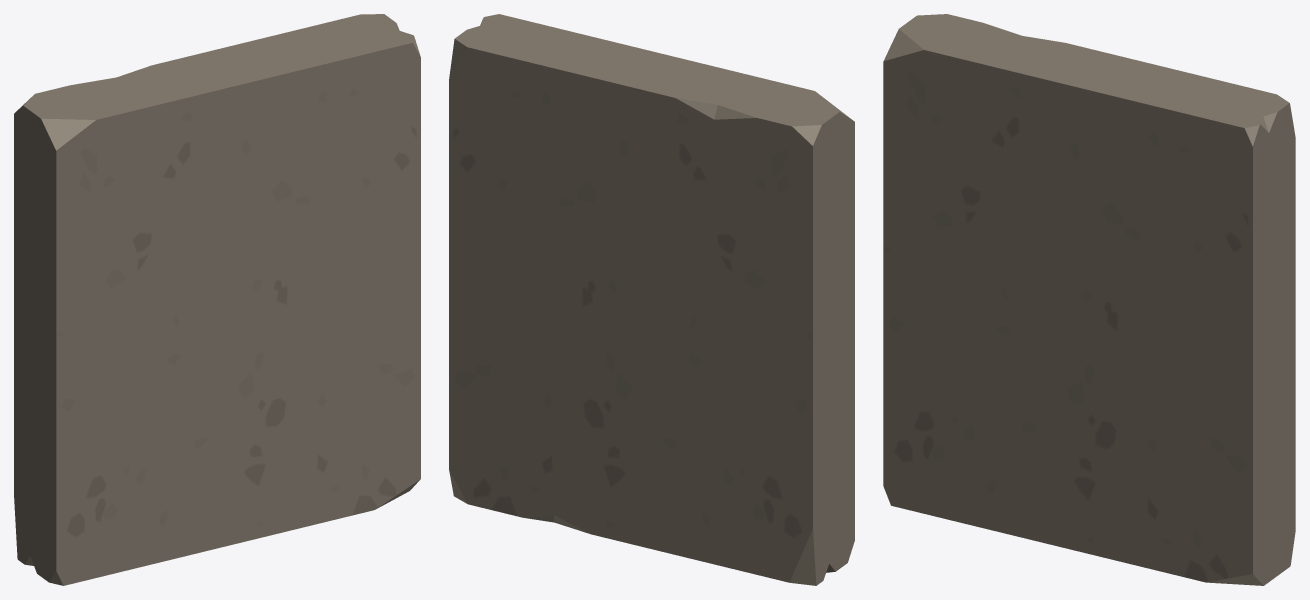
The model's file is SM_Bld_Concrete_Wall_01.glb.
The picture shows the model from 3 angles, left to right: view 1: azimuth 30°, elevation 25°; view 2: azimuth 150°, elevation 25°; view 3: azimuth 330°, elevation 25°; orthographic projection.
Visible parts, largest first — view 1: SM_Bld_Concrete_Wall_01; view 2: SM_Bld_Concrete_Wall_01; view 3: SM_Bld_Concrete_Wall_01.
Boxes of the visible parts, box(x1,y1,x2,y2) form: SM_Bld_Concrete_Wall_01: box(14, 14, 420, 585); SM_Bld_Concrete_Wall_01: box(449, 14, 854, 585); SM_Bld_Concrete_Wall_01: box(883, 14, 1295, 585).
Size of the model in its own units: 2.5 by 3 by 0.5.
1 material, 1 textured.
